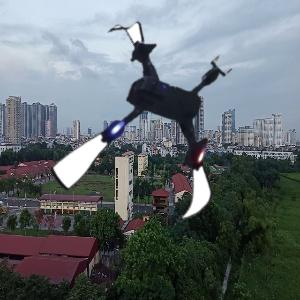drone: (47, 26, 259, 238)
